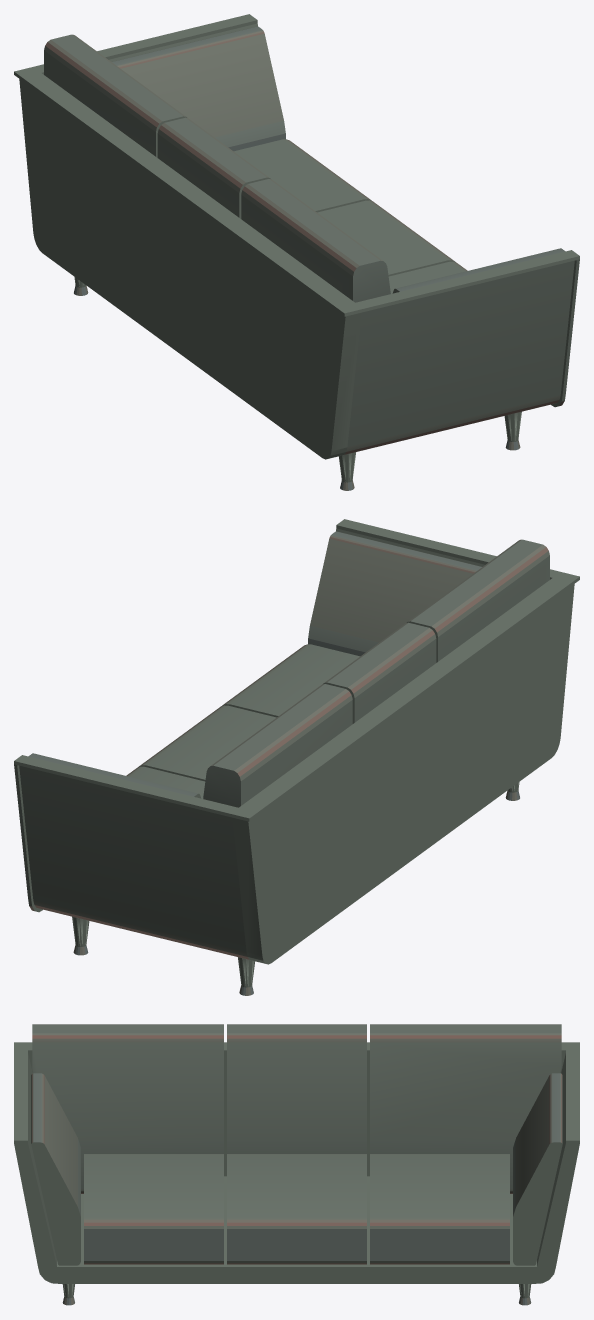
File: Couch_3seat.fbx
3 views of the same model, one above another, from view 1: azimuth 30°, elevation 25°; view 2: azimuth 150°, elevation 25°; view 3: azimuth 270°, elevation 25° (orthographic). The views are drawn at different scales.
Visible parts, largest first — view 1: Couch_3seat; view 2: Couch_3seat; view 3: Couch_3seat.
Part boxes in pixels (x1=…): Couch_3seat: x1=14, y1=14, x2=579, y2=490; Couch_3seat: x1=14, y1=519, x2=579, y2=995; Couch_3seat: x1=14, y1=1024, x2=579, y2=1305.
Size of the model in its own units: 91.5 by 88.06 by 220.
